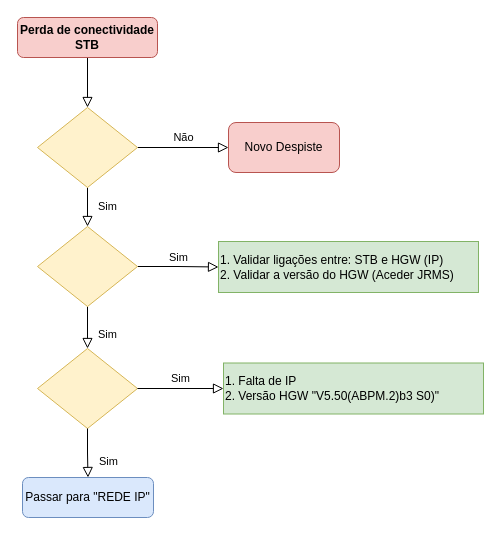
Some shapes in this 501 by 535 pixel diagram are drawn without their labels. The shapes that lost their labels are listed below. From the top down, each one's centre as x and y in pixels, then its label:
At point (87, 147): "Erro (-7)".
At point (87, 266): "Verificou os Equipamentos".
At point (87, 388): "Problemas identificados".
